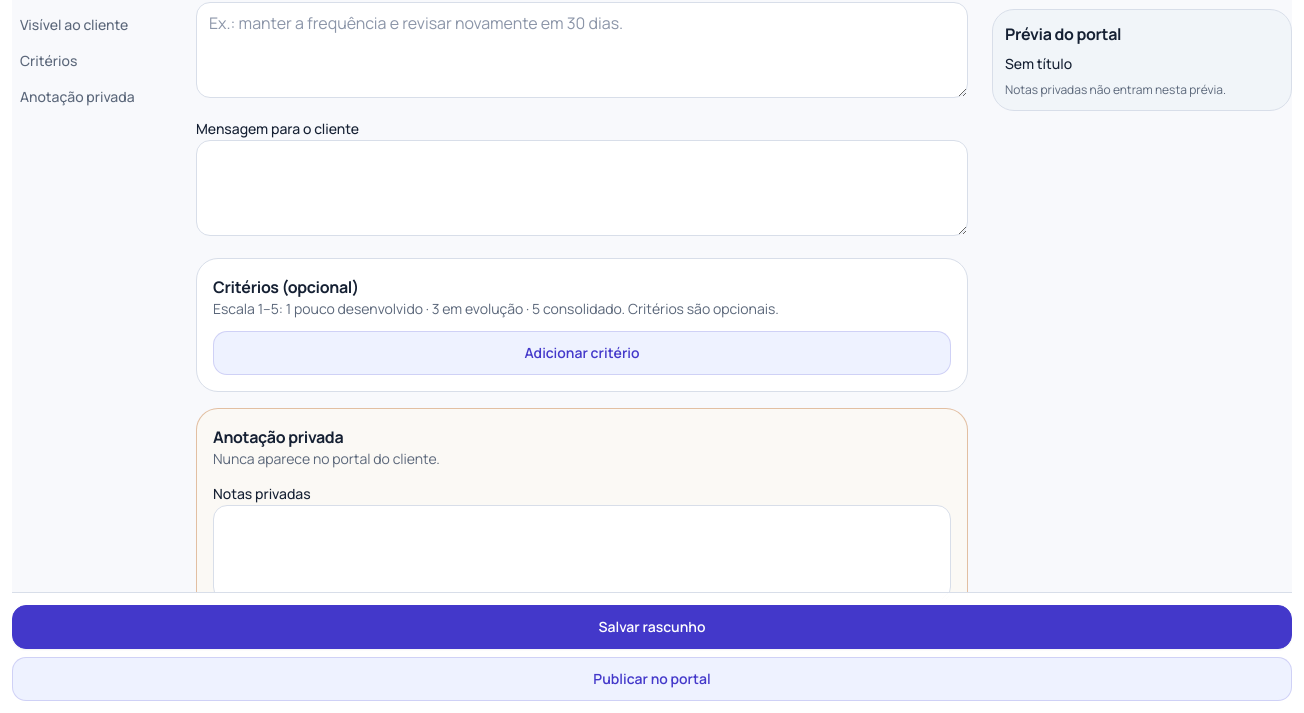
Test case: EvaluationEditor › allows optional criteria
(page scrolled)
Click the button "Adicionar critério".
click(582, 353)  # box [213, 331, 951, 375]
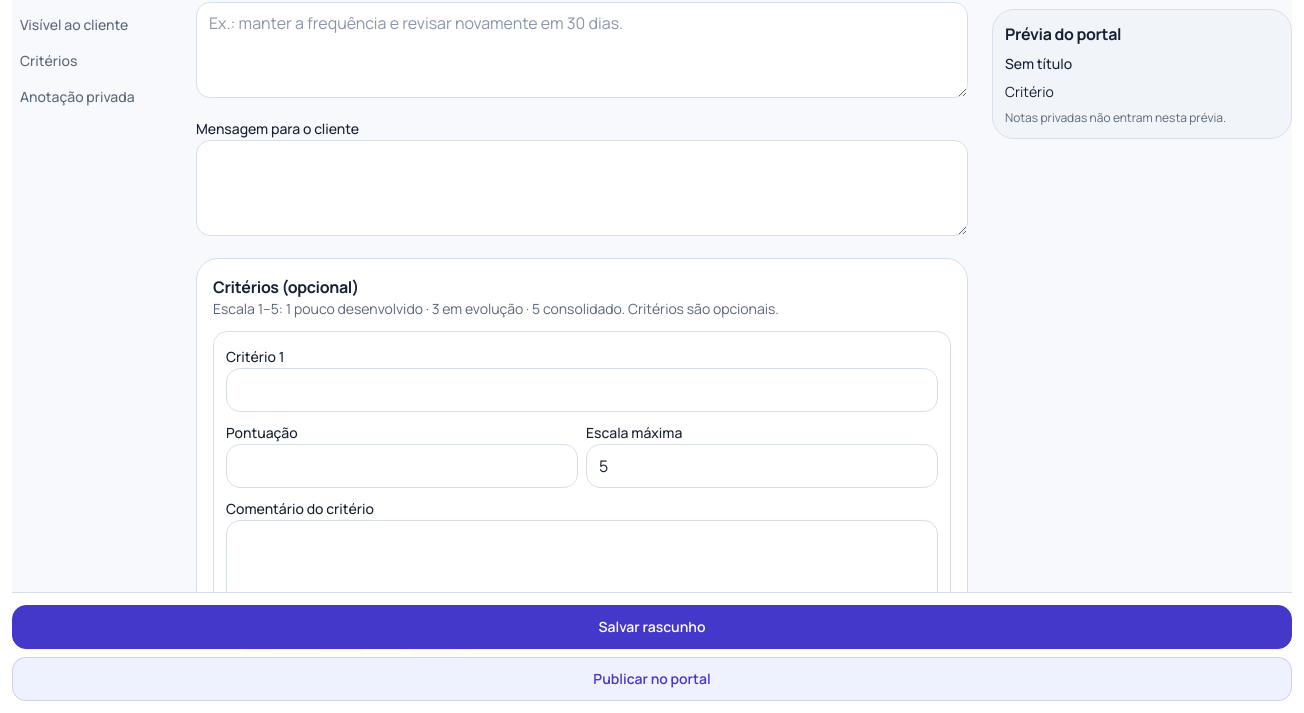
expect the text "Critérios são opcionais" is shown: met, box [213, 299, 779, 318]
expect the field labelled "Critério 1" is shown: met, box [226, 368, 938, 412]
